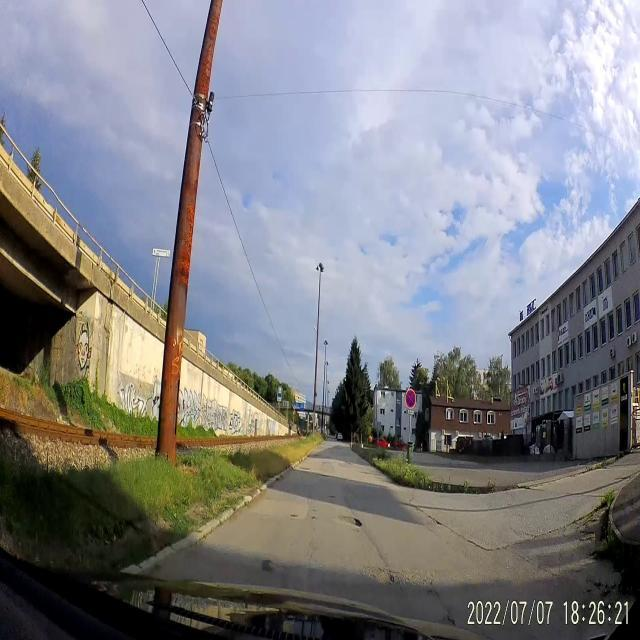Pothole: (367, 559, 429, 591), (338, 508, 364, 536), (416, 516, 444, 528)
